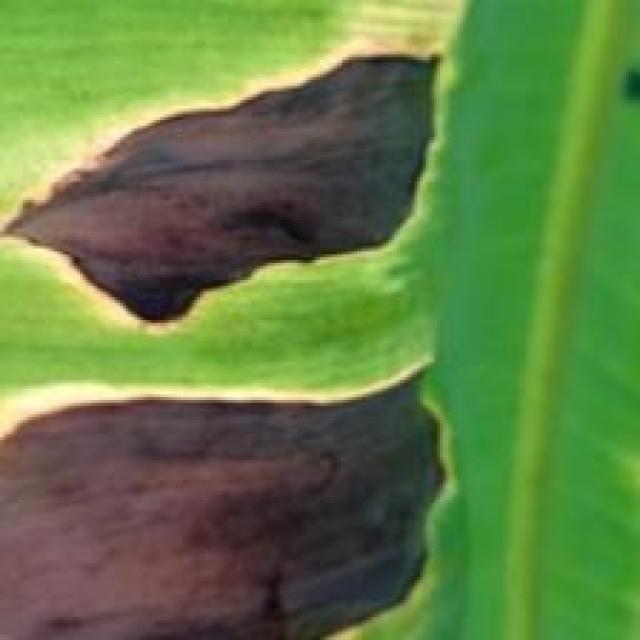Bacterial_spot: (0, 42, 484, 333), (4, 370, 490, 640)
